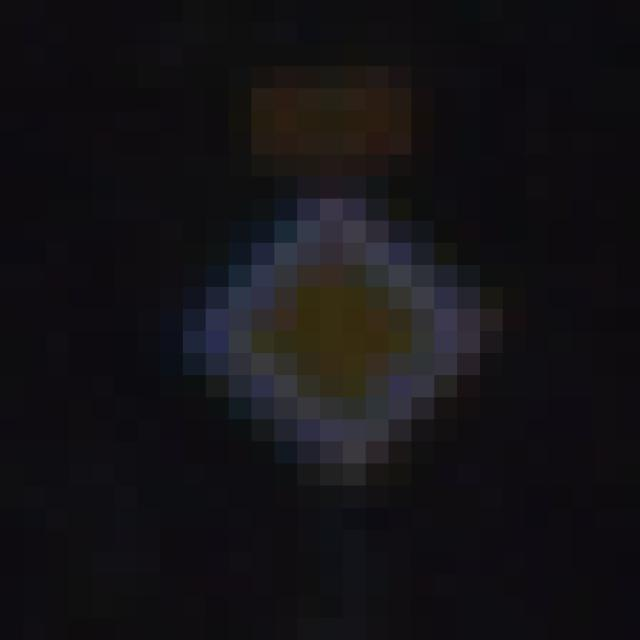Main Road: (138, 134, 527, 531)
